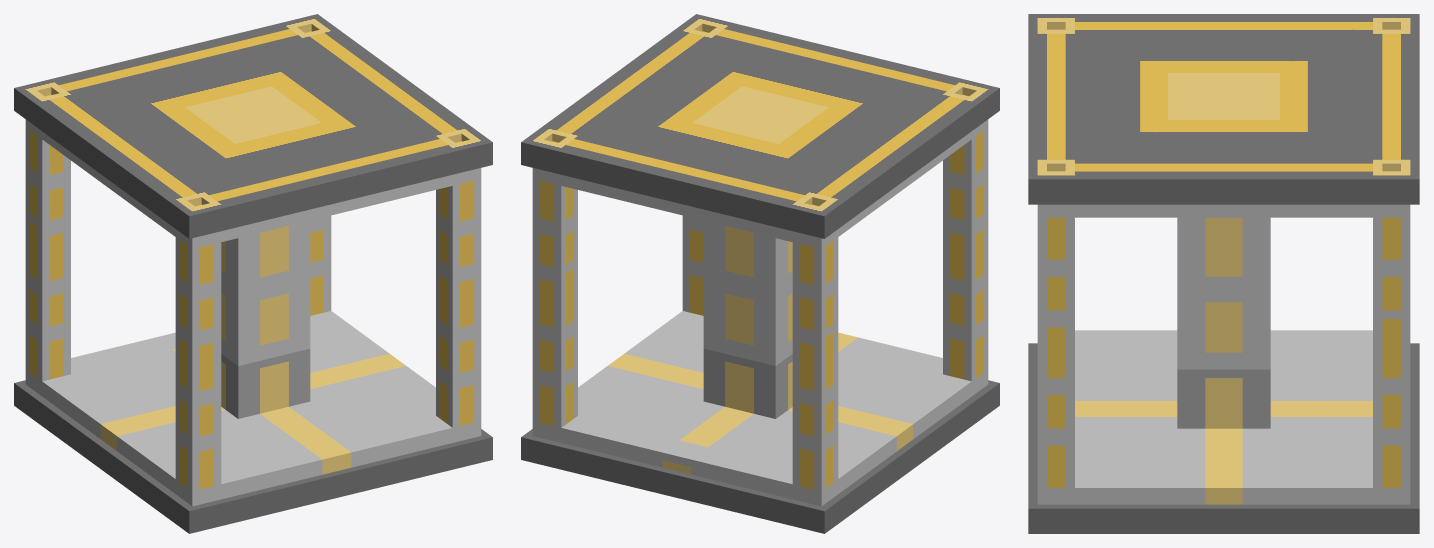
File: Tower_3.fbx
The picture shows the model from 3 angles, left to right: view 1: azimuth 30°, elevation 25°; view 2: azimuth 150°, elevation 25°; view 3: azimuth 270°, elevation 25°; orthographic projection. The views are drawn at different scales.
Parts seen in each view (by area): view 1: Box; view 2: Box; view 3: Box.
Boxes of the visible parts, <box> form: Box: <box>14,14,492,533</box>; Box: <box>521,14,999,533</box>; Box: <box>1028,14,1419,533</box>.
Bounding box in the file's own units: 42 × 42 × 42.
Materials: 1 (1 with a texture image).
